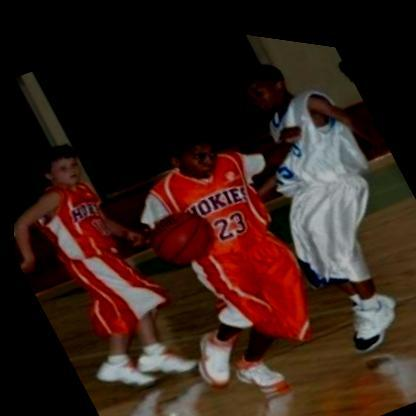basketball: (138, 191, 223, 276)
